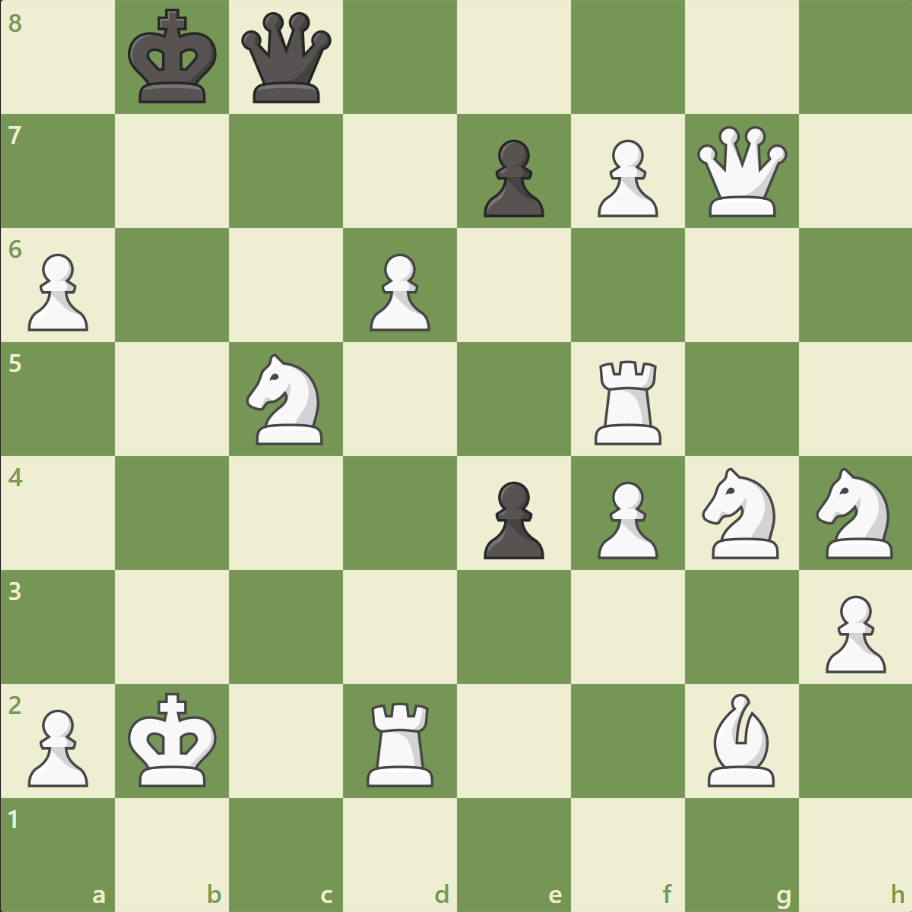B: (698, 687, 782, 790)
K: (124, 685, 224, 793)
N: (692, 461, 789, 564), (806, 461, 903, 564), (238, 348, 335, 450)
P: (20, 246, 95, 337), (20, 700, 95, 791), (588, 132, 662, 223), (361, 246, 435, 337), (588, 473, 662, 564), (815, 586, 889, 677)
Q: (691, 122, 790, 222)
R: (587, 352, 670, 449), (360, 693, 442, 790)
k: (124, 4, 224, 112)
p: (474, 132, 549, 223), (474, 473, 549, 564)
q: (237, 9, 336, 108)
